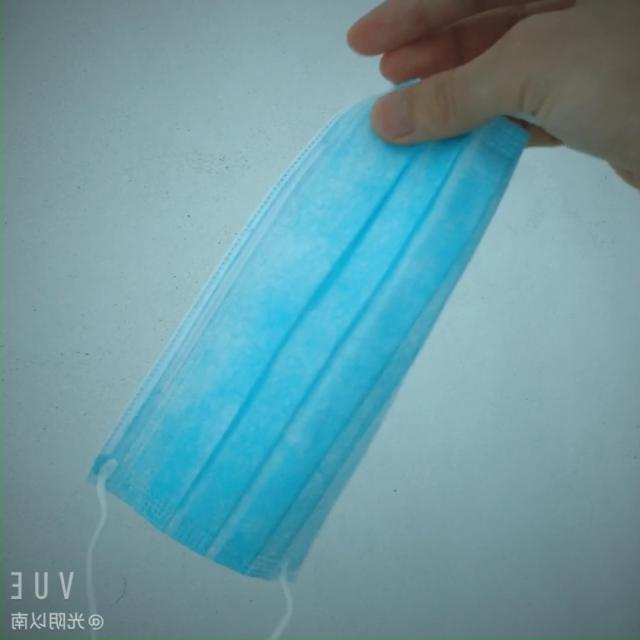face mask: (89, 57, 501, 570)
